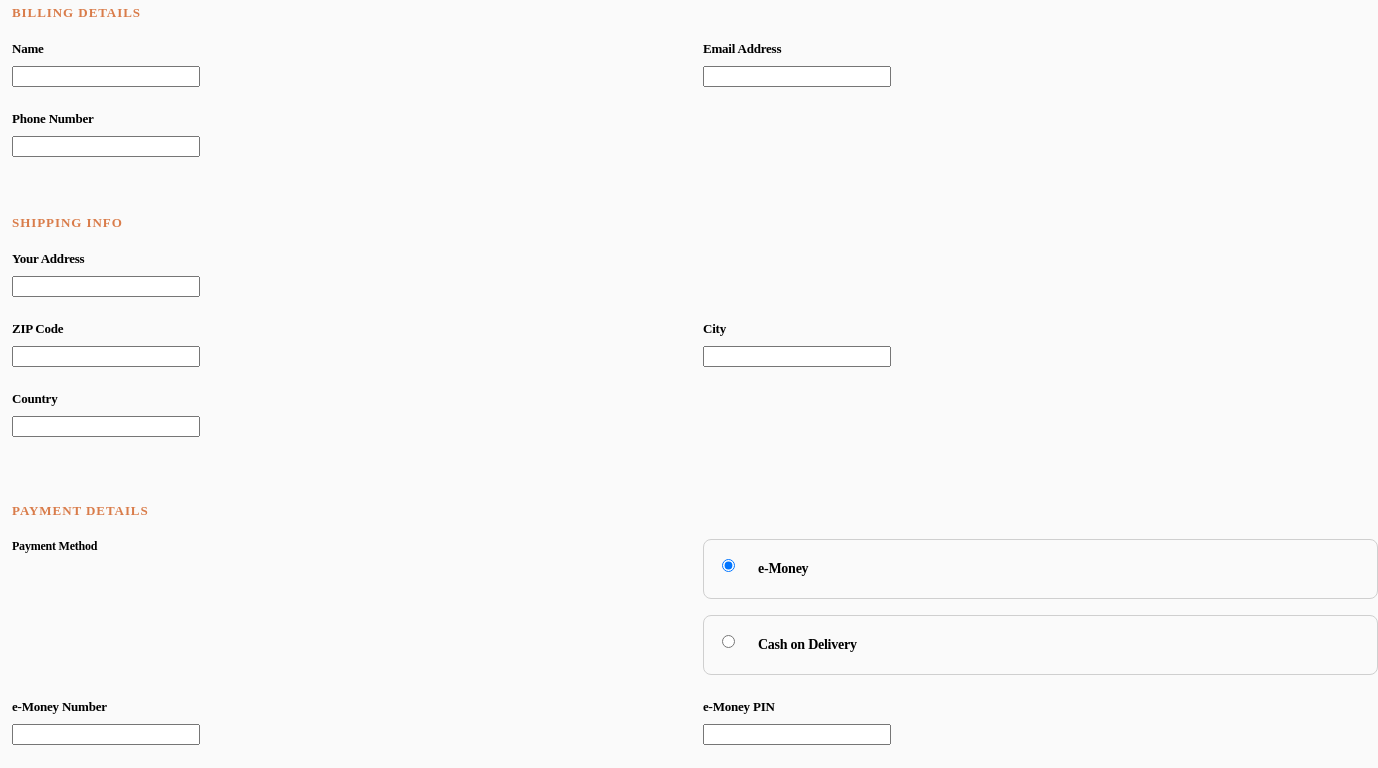
Test: PaymentDetails › Interactions › hides the required error message in e-Money Number field after non-empty value is inputted
This screenshot has width=1378, height=768.
Note: Show required error message
Click the field labelled "e-Money Number". click: click(106, 734)
box: [12,724,200,745]
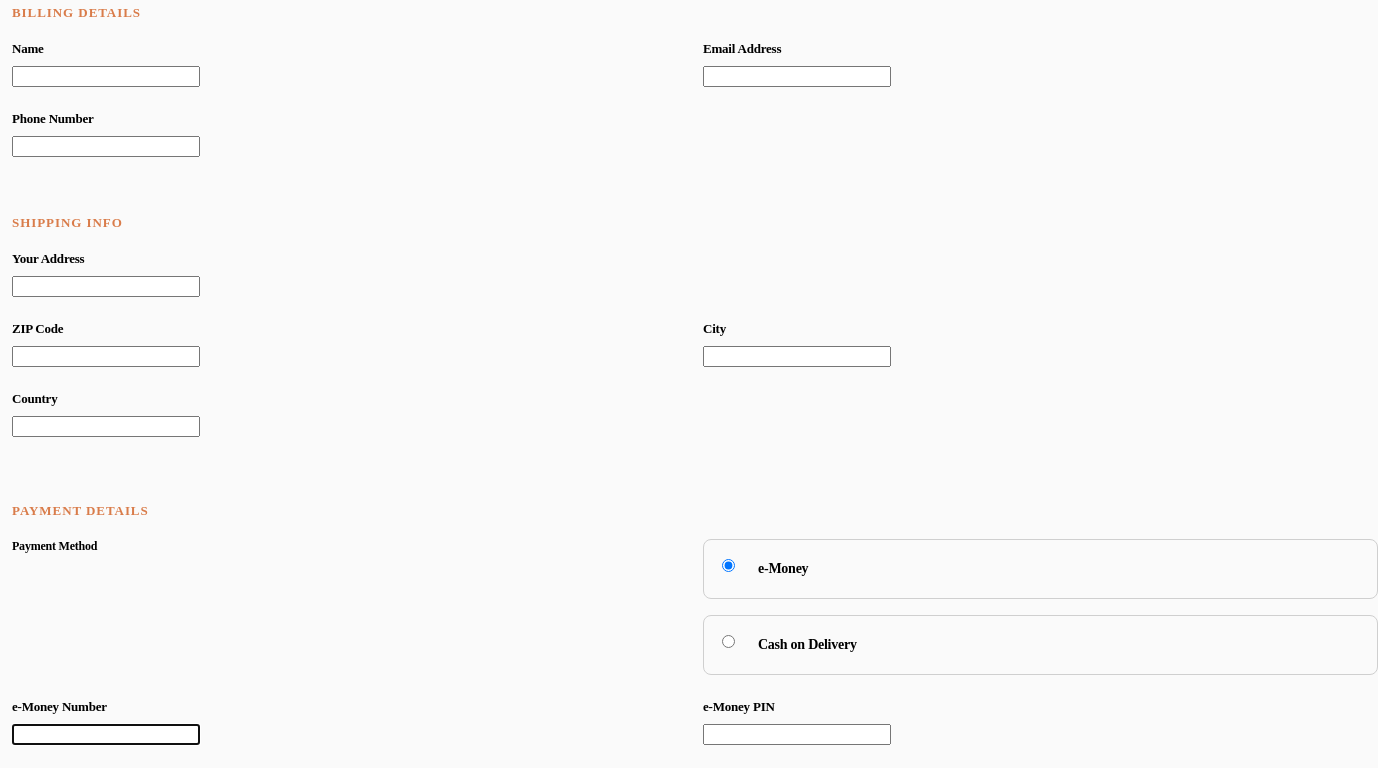
Click the element that starts with "Billing Details". click: click(695, 384)
box: [12,0,1377,767]
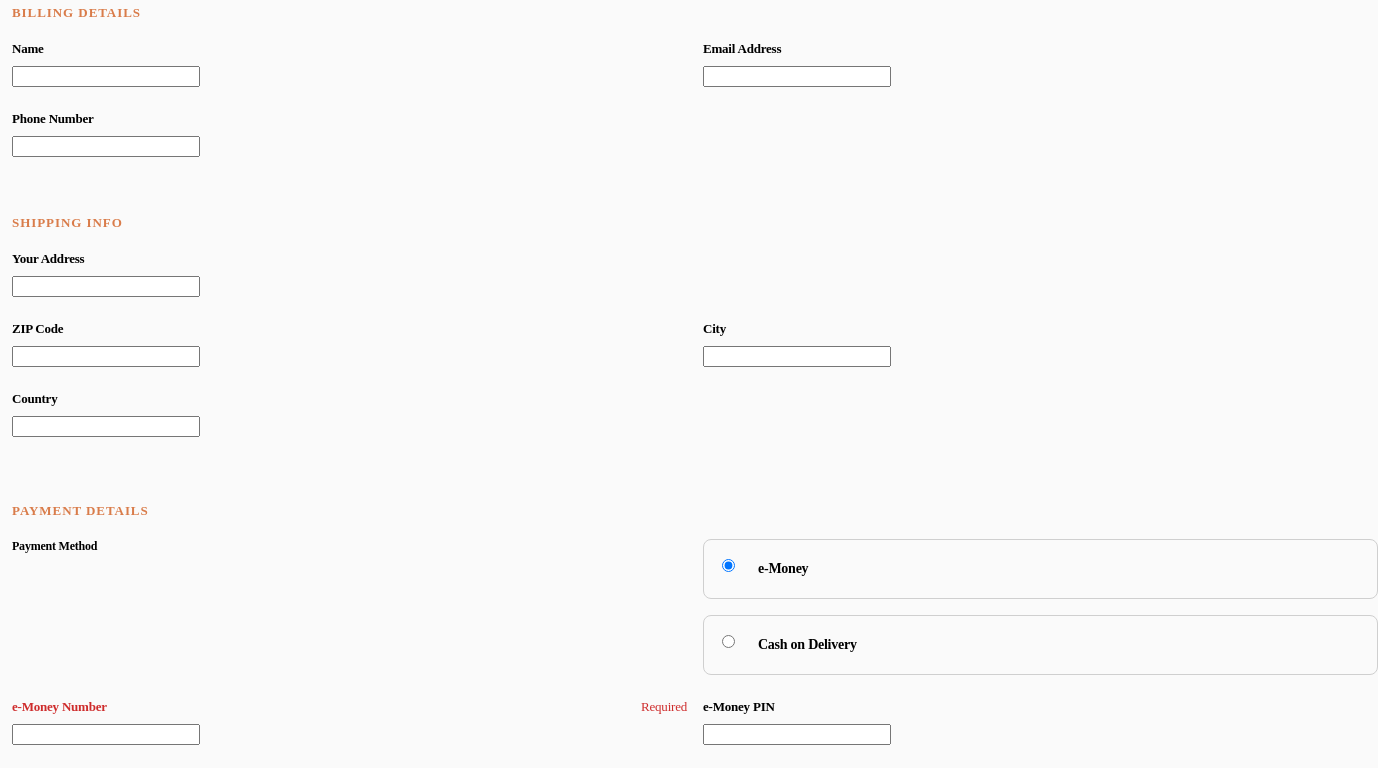
Now the text "Required" is shown, box [641,699,687,715]
Note: Input numberic value to remove required error message
Type "12" into the field labelled "e-Money Number". click: (106, 734)
box: [12,724,200,745]
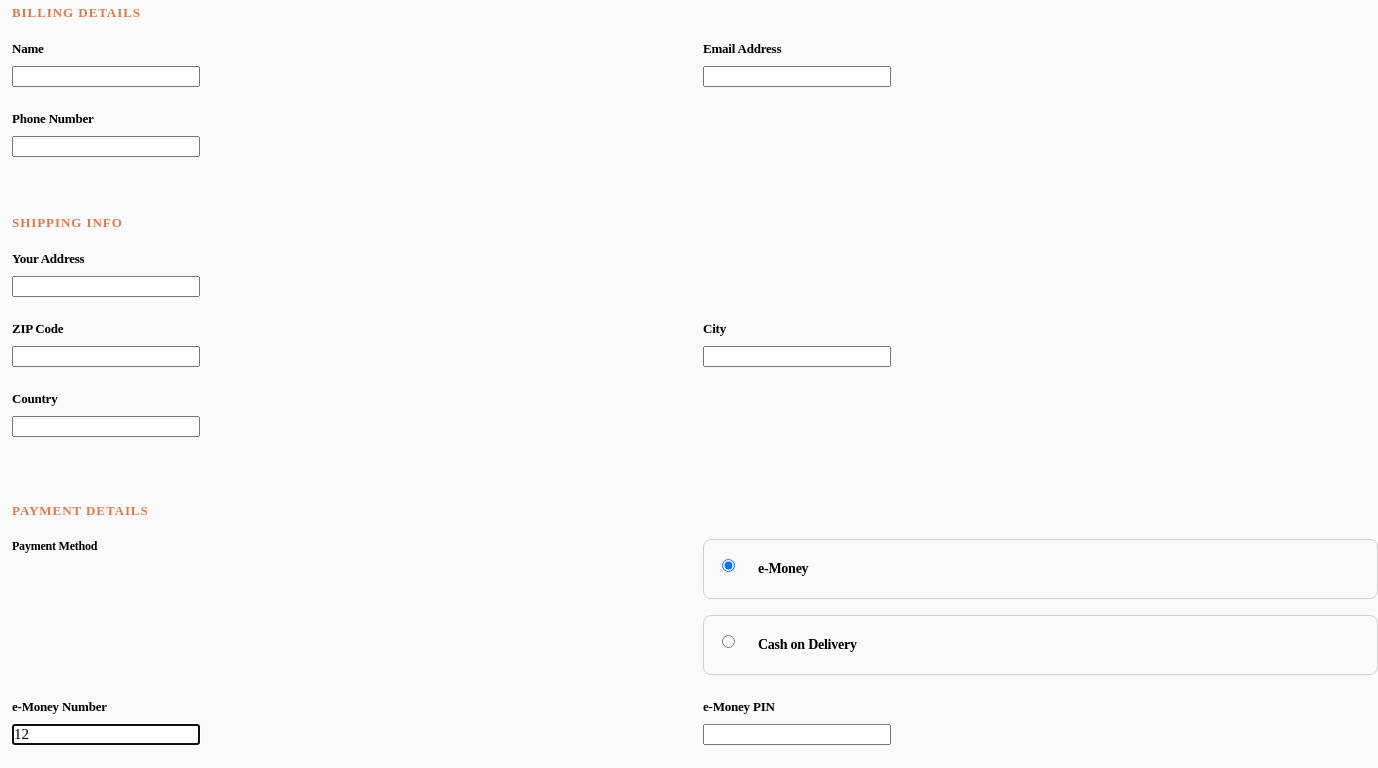
Now the text "Required" is gone
